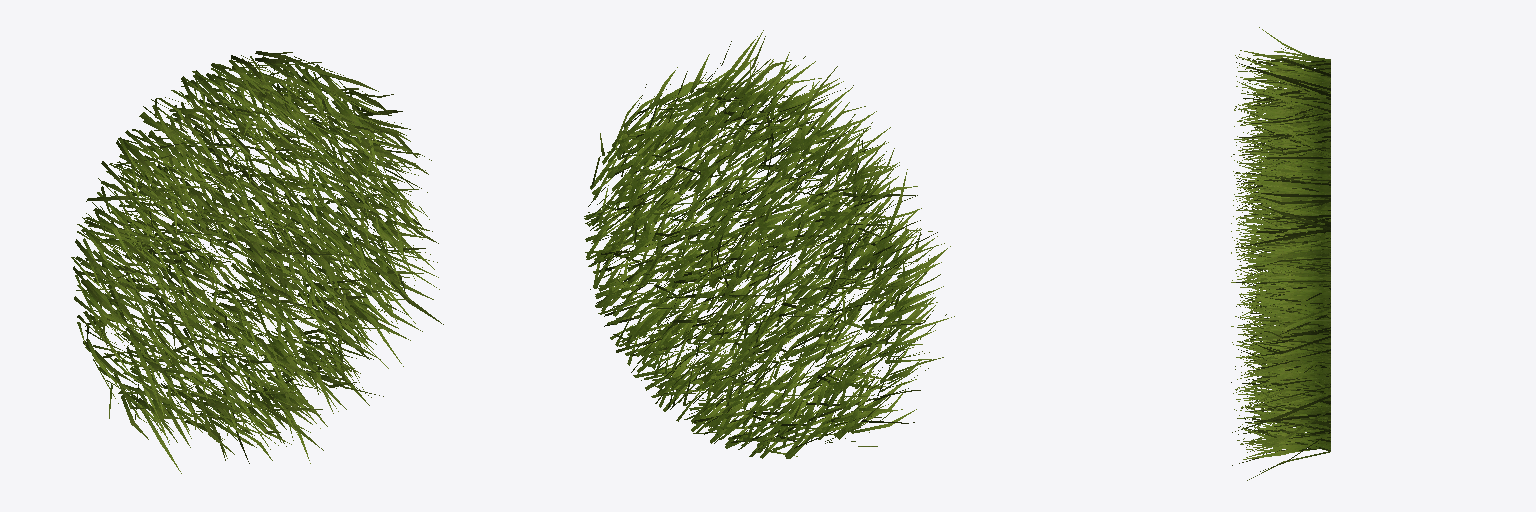
3 renders of one model, left to right at view 1: azimuth 30°, elevation 25°; view 2: azimuth 150°, elevation 25°; view 3: azimuth 270°, elevation 25°, orthographic.
Bounding box in the file's own units: 3.5 × 4.03 × 0.9068.
Materials: 1 (1 with a texture image).